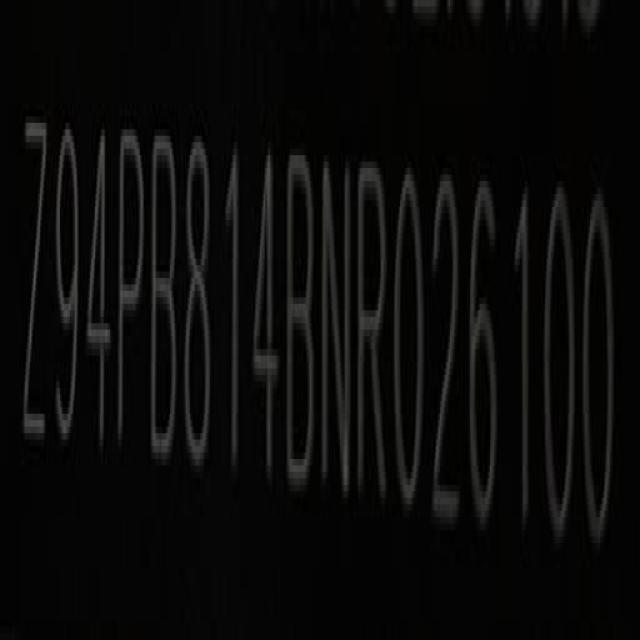0: (542, 184, 576, 550), (583, 194, 618, 548), (393, 168, 428, 522)
1: (512, 179, 534, 543), (225, 140, 243, 488)
2: (431, 166, 464, 534)
4: (253, 146, 282, 491), (88, 125, 115, 459)
6: (466, 174, 500, 536)
8: (187, 133, 215, 473)
9: (52, 116, 80, 458)
B: (288, 146, 321, 498), (150, 127, 181, 468)
N: (322, 152, 354, 503)
P: (117, 127, 146, 464)
R: (357, 156, 390, 513)
Z: (20, 112, 49, 462)
